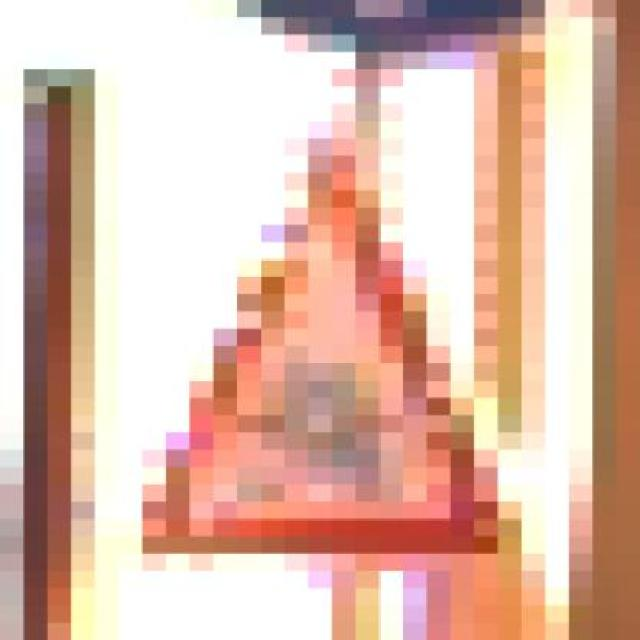CYCLE ROUTE AHEAD WARNING: (118, 104, 545, 605)
